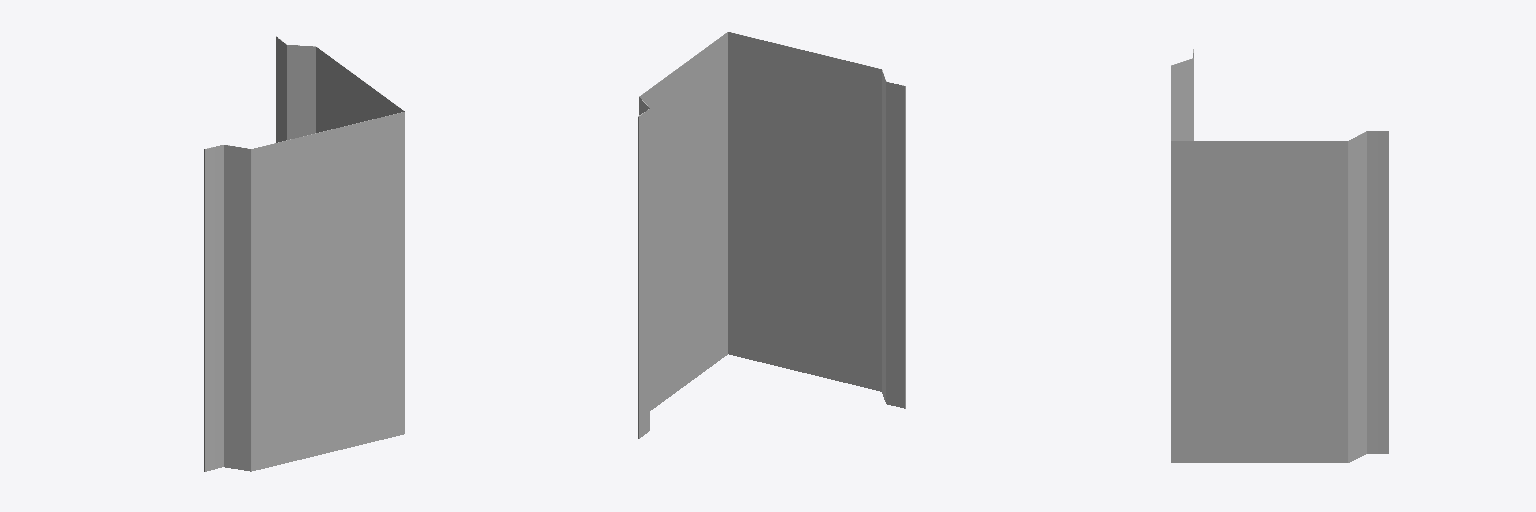
File: GableTrim.obj
3 renders of one model, left to right at view 1: azimuth 30°, elevation 25°; view 2: azimuth 150°, elevation 25°; view 3: azimuth 270°, elevation 25°, orthographic.
Parts seen in each view (by area): view 1: Part2; view 2: Part2; view 3: Part2.
Boxes of the visible parts, x1=… form: Part2: x1=204, y1=36, x2=404, y2=471; Part2: x1=638, y1=32, x2=905, y2=438; Part2: x1=1171, y1=49, x2=1388, y2=462.
Bounding box in the file's own units: 0.9366 × 1.52 × 0.9366.